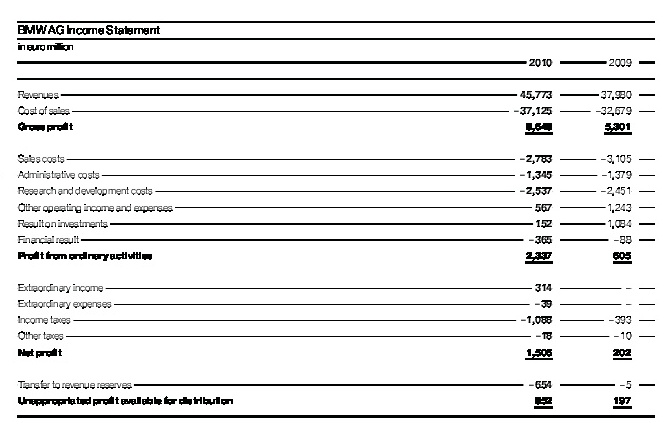table: (0, 0, 666, 435)
